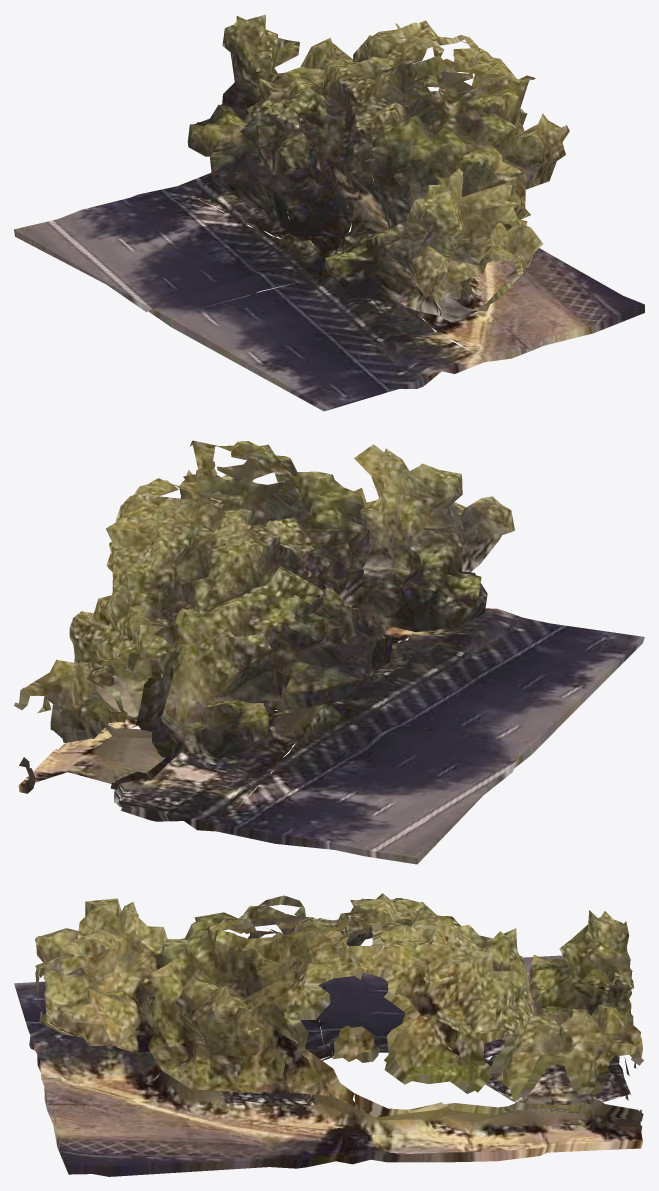
3 renders of one model, top to bottom at view 1: azimuth 30°, elevation 25°; view 2: azimuth 150°, elevation 25°; view 3: azimuth 270°, elevation 25°, orthographic. The views are drawn at different scales.
Visible parts, largest first — view 1: Mesh_0; view 2: Mesh_0; view 3: Mesh_0.
Part boxes in pixels (<box>): Mesh_0: <box>14,14,644,411</box>; Mesh_0: <box>14,440,644,864</box>; Mesh_0: <box>14,893,644,1176</box>.
Bounding box in the file's own units: 33.3 × 15.62 × 41.58.
1 material, 1 textured.
